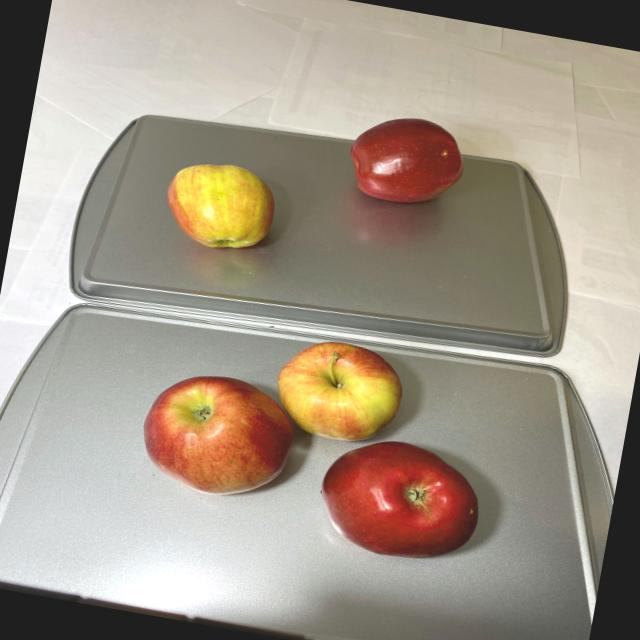apple: (128, 312, 506, 570), (338, 106, 471, 214), (158, 154, 282, 258)
